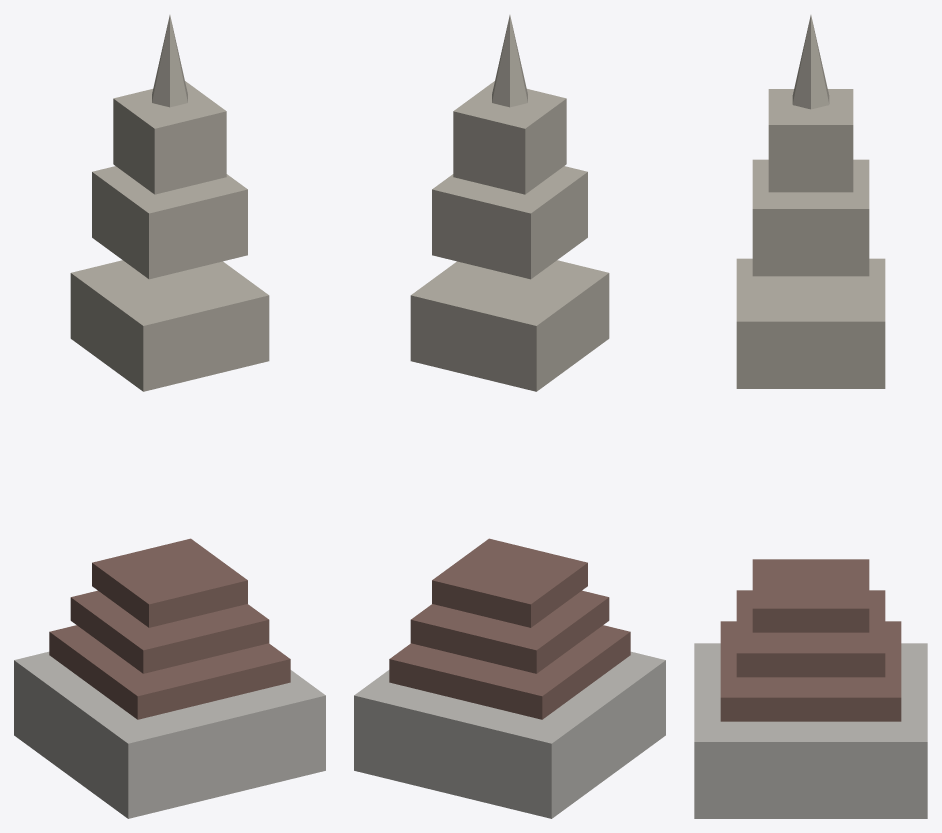
3 views of the same model, side by side, from view 1: azimuth 30°, elevation 25°; view 2: azimuth 150°, elevation 25°; view 3: azimuth 270°, elevation 25° (orthographic). The views are drawn at different scales.
Parts seen in each view (by area): view 1: part0, part1, part3, part2, part5, part6, part4, part7; view 2: part0, part1, part3, part2, part5, part6, part4, part7; view 3: part0, part1, part3, part2, part6, part4, part5, part7.
Part boxes in pixels (x1,y1,x2,y2): part0: (14,651,325,818); part1: (70,260,269,391); part3: (92,166,247,279); part2: (49,625,290,719); part5: (113,81,226,194); part6: (92,538,247,627); part4: (70,590,269,673); part7: (152,15,187,107); part0: (354,651,665,818); part1: (410,260,609,391); part3: (432,166,587,279); part2: (389,625,630,719); part5: (453,81,566,194); part6: (432,538,587,627); part4: (410,590,609,673); part7: (492,15,527,107); part0: (694,643,927,818); part1: (736,258,885,388); part3: (752,159,869,276); part2: (720,621,901,721); part6: (752,559,869,632); part4: (736,590,885,677); part5: (768,89,853,192); part7: (792,15,829,109).
Size of the model in its own units: 2.2 by 7.86 by 2.2.
